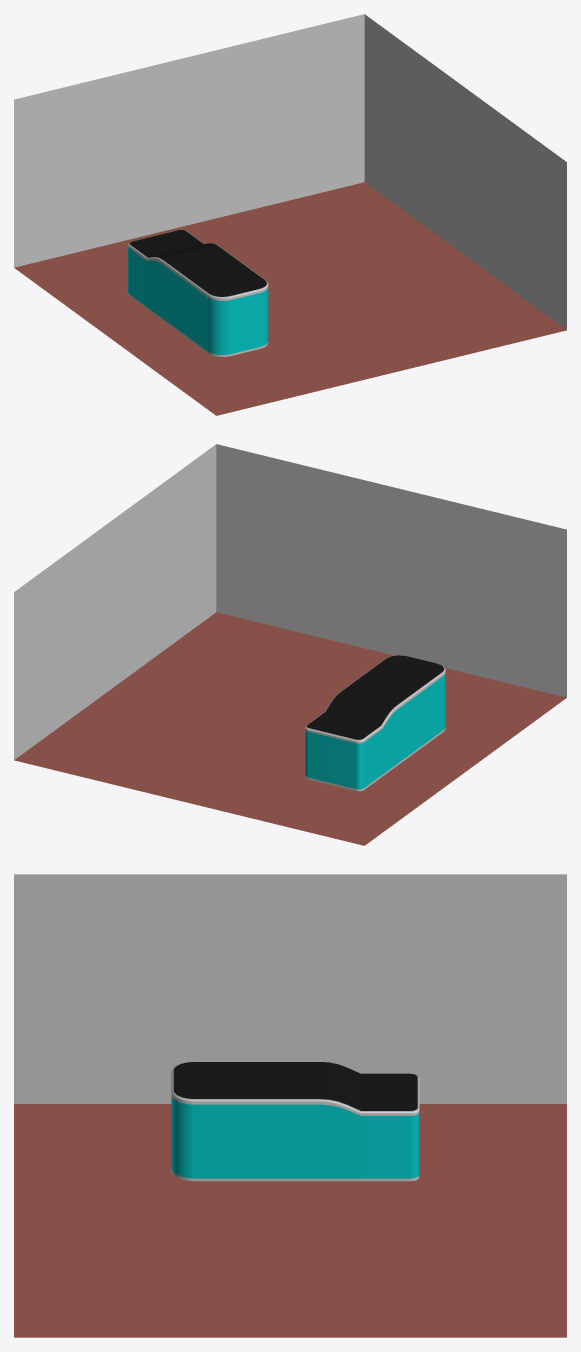
The model's file is Room_1.glb.
3 views of the same model, one above another, from view 1: azimuth 30°, elevation 25°; view 2: azimuth 150°, elevation 25°; view 3: azimuth 270°, elevation 25° (orthographic). The views are drawn at different scales.
Visible parts, largest first — view 1: Room, pCube2; view 2: Room, pCube2; view 3: Room, pCube2.
Part boxes in pixels (x1,y1,x2,y2): Room: (14,14,566,415); pCube2: (127,229,268,356); Room: (14,444,566,845); pCube2: (305,655,445,791); Room: (14,874,566,1337); pCube2: (171,1061,419,1181).
Bounding box in the file's own units: 1.43 × 0.6534 × 1.43.
